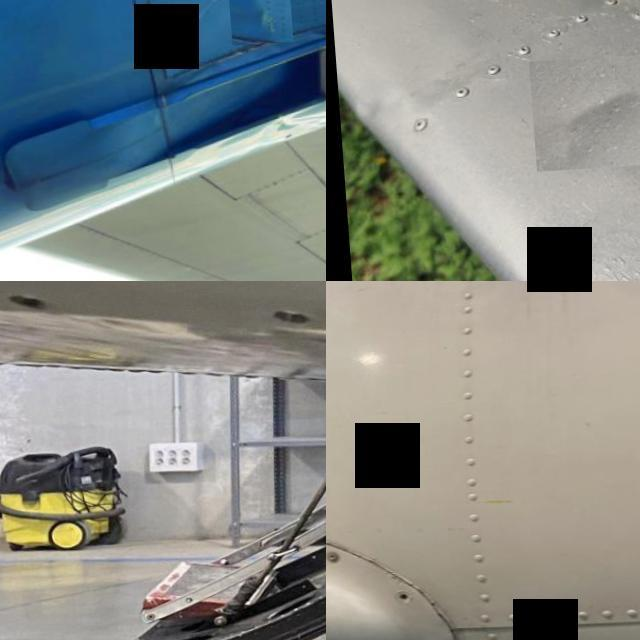Crack: (328, 548, 415, 590), (414, 586, 459, 640)
Dent: (524, 57, 640, 174), (332, 67, 410, 158), (224, 0, 285, 48)
Missing_Fastener: (0, 288, 48, 320), (266, 308, 314, 340), (388, 596, 406, 608)
